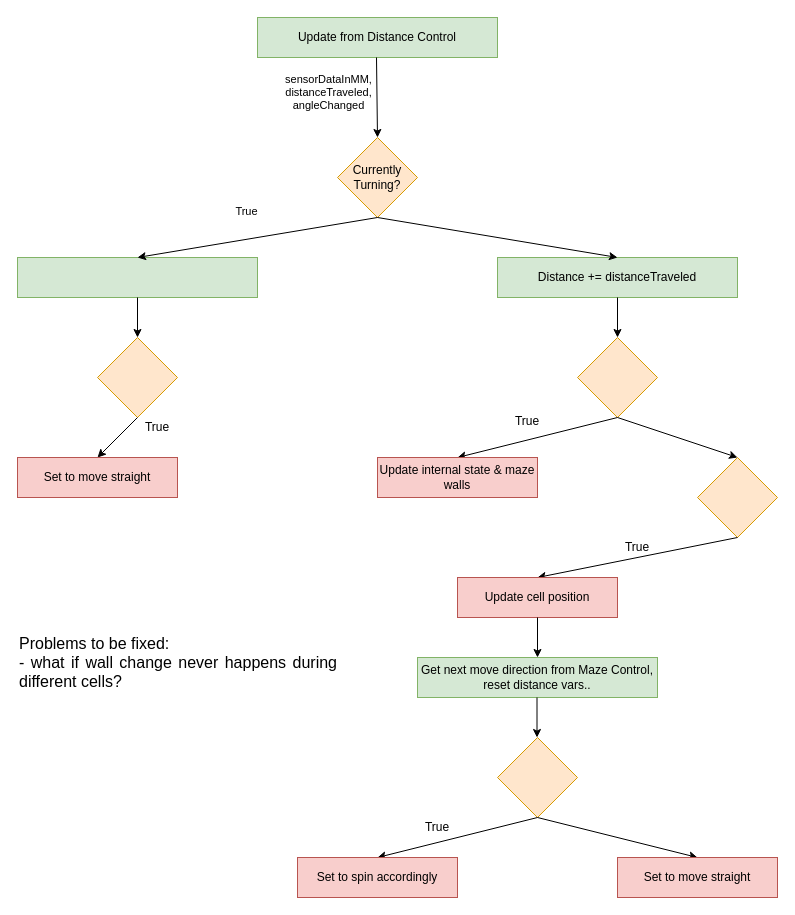
Some shapes in this 795 by 915 pixel diagram are drawn without their labels. The shapes that lost their labels are listed below. From the top down, each one's box as (x1, y1, x2, y2) in pixels, then its label:
(16, 256, 258, 298): AngleChange += angleChanged
(96, 336, 178, 418): Angle reached?
(576, 336, 658, 418): Wall has changed?
(696, 456, 778, 538): Distance reached?
(496, 736, 578, 818): New direction needs rotation?
